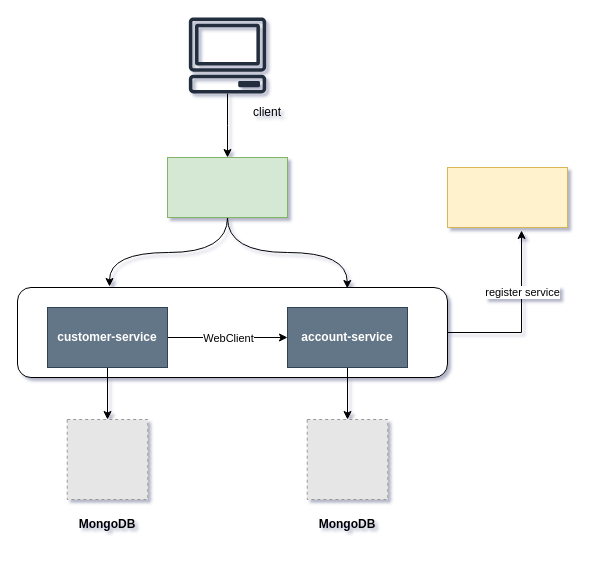
Some shapes in this 591 by 562 pixel diagram are drawn without their labels. Grey dashed boxes stand in for pictures. The shapes that lost their labels are listed below. From the top down, each one's centre as x and y in pixels, then its label:
At (x=227, y=187): "gateway-service".
At (x=507, y=197): "discovery-service".
